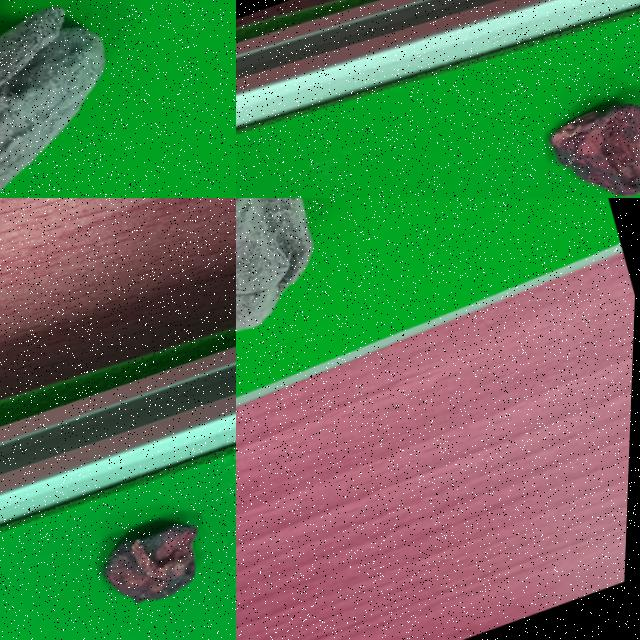Agglomerated_cocoabeans: (236, 198, 424, 454), (0, 0, 228, 197)
Flat_cocoabeans: (28, 469, 235, 639), (453, 31, 639, 197)
